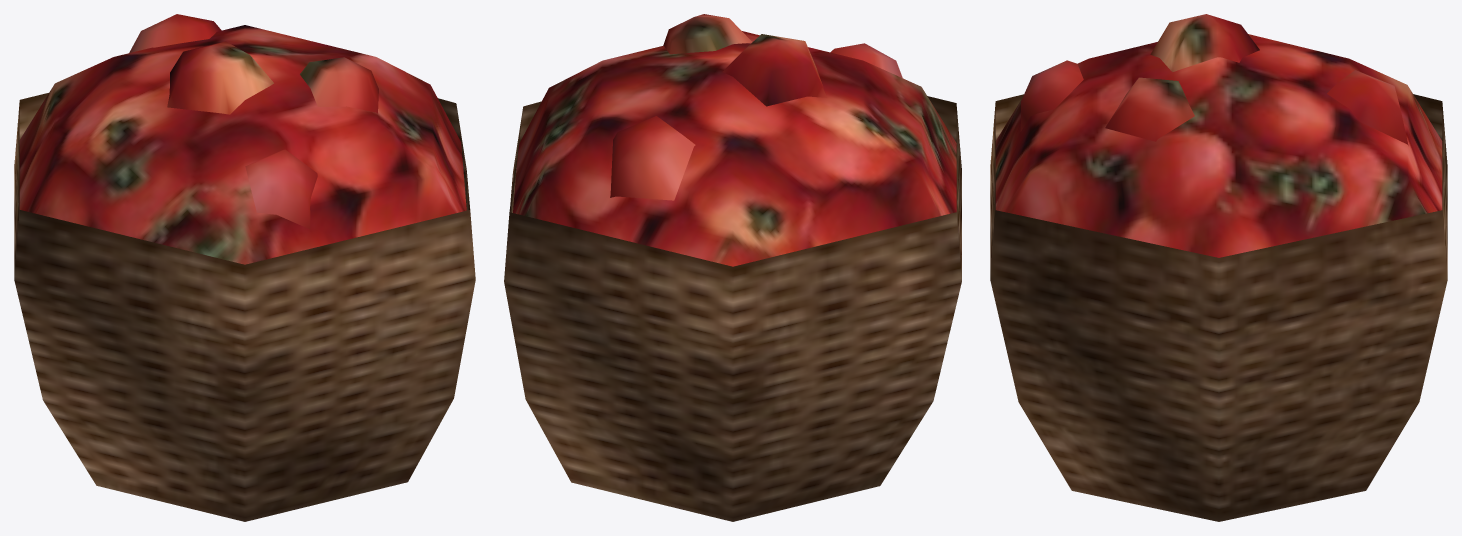
The model's file is tomatobasket.fbx.
3 renders of one model, left to right at view 1: azimuth 30°, elevation 25°; view 2: azimuth 150°, elevation 25°; view 3: azimuth 270°, elevation 25°, orthographic.
Visible parts, largest first — view 1: lod_high, pSphere1, pSphere2, pSphere5, pSphere3, pSphere4; view 2: lod_high, pSphere1, pSphere4, pSphere2, pSphere3, pSphere5; view 3: lod_high, pSphere1, pSphere2, pSphere3, pSphere4, pSphere5.
Part boxes in pixels (x1,y1,x2,y2): lod_high: (14, 93, 475, 521); pSphere1: (19, 25, 466, 264); pSphere2: (167, 41, 273, 114); pSphere5: (245, 149, 317, 229); pSphere3: (300, 57, 378, 113); pSphere4: (129, 14, 221, 52); lod_high: (504, 96, 961, 521); pSphere1: (513, 31, 956, 266); pSphere4: (610, 116, 695, 200); pSphere2: (723, 34, 827, 106); pSphere3: (663, 14, 752, 54); pSphere5: (830, 43, 902, 77); lod_high: (990, 94, 1447, 521); pSphere1: (995, 34, 1442, 257); pSphere2: (1150, 14, 1259, 71); pSphere3: (1105, 77, 1194, 141); pSphere4: (1327, 70, 1408, 145); pSphere5: (1020, 60, 1083, 131).
Bounding box in the file's own units: 91.82 × 81.02 × 81.1.
Materials: 1 (1 with a texture image).
